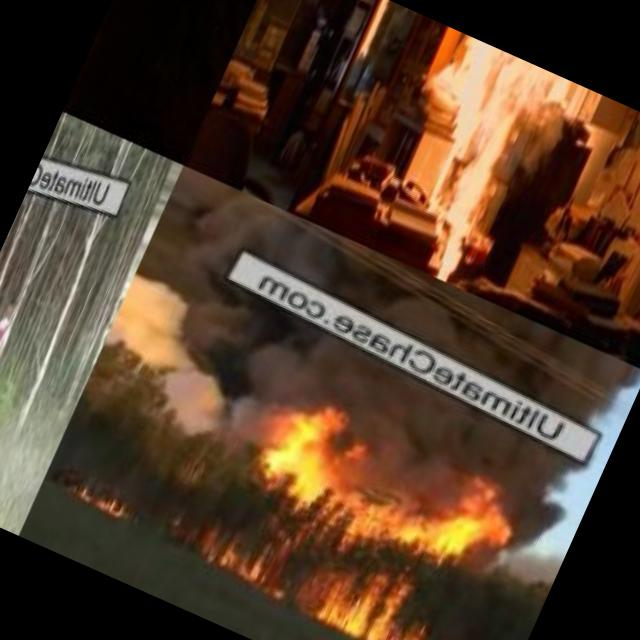fire: (308, 7, 602, 310), (402, 457, 528, 577), (258, 394, 374, 516), (319, 562, 458, 640), (202, 524, 314, 600), (68, 476, 137, 527)
smoke: (84, 263, 311, 466)
